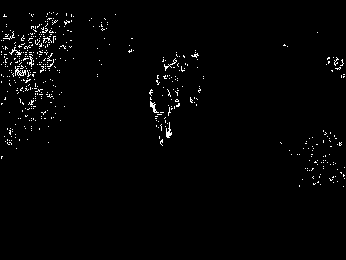person: (145, 72, 177, 147)
